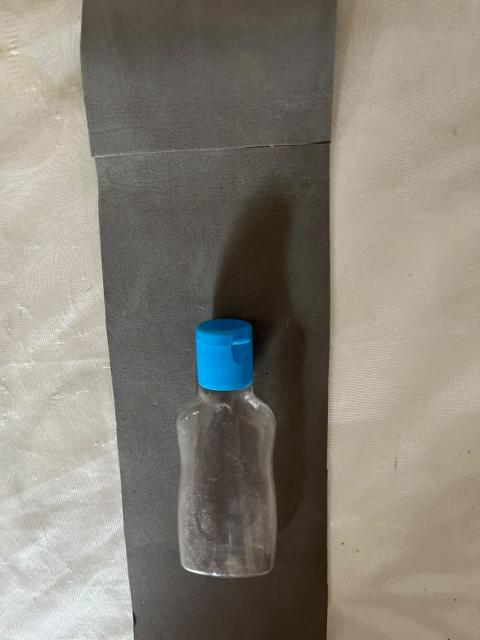PET: (171, 310, 288, 606)
